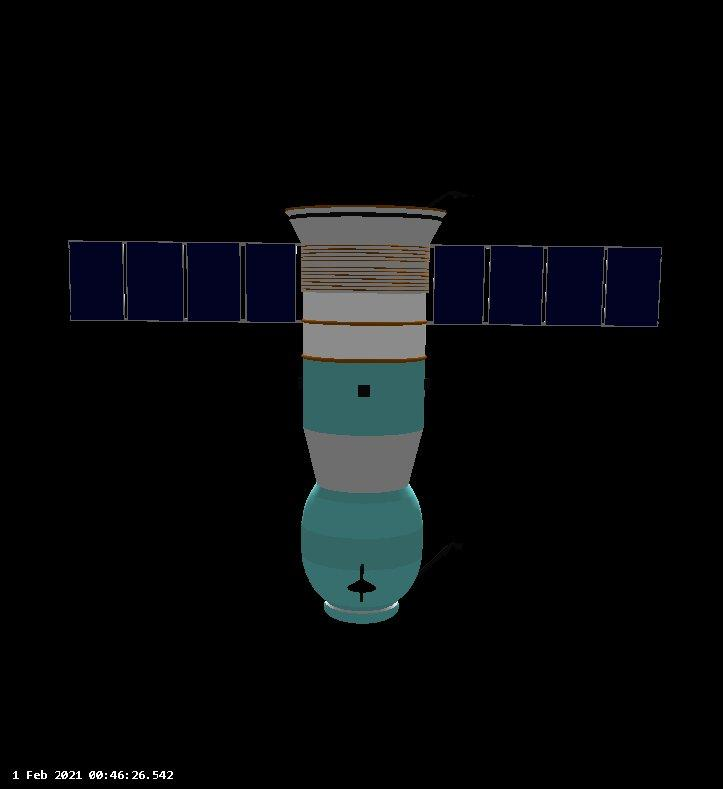antenna: (348, 562, 377, 604)
body: (280, 199, 453, 624)
solar: (65, 236, 303, 328), (429, 240, 665, 332)
thruster: (282, 200, 450, 243)
